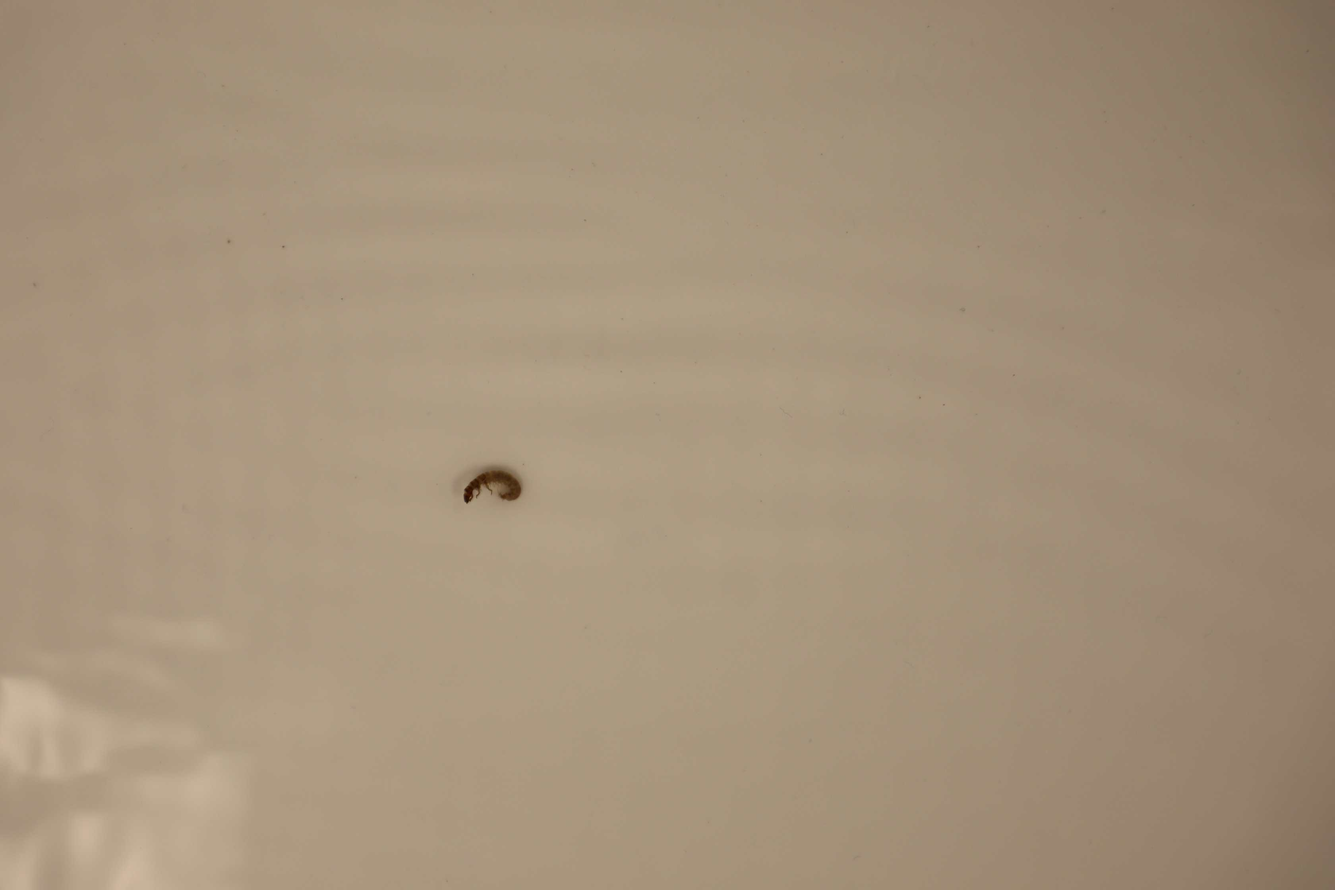Cadisfly: (459, 472, 522, 509)
